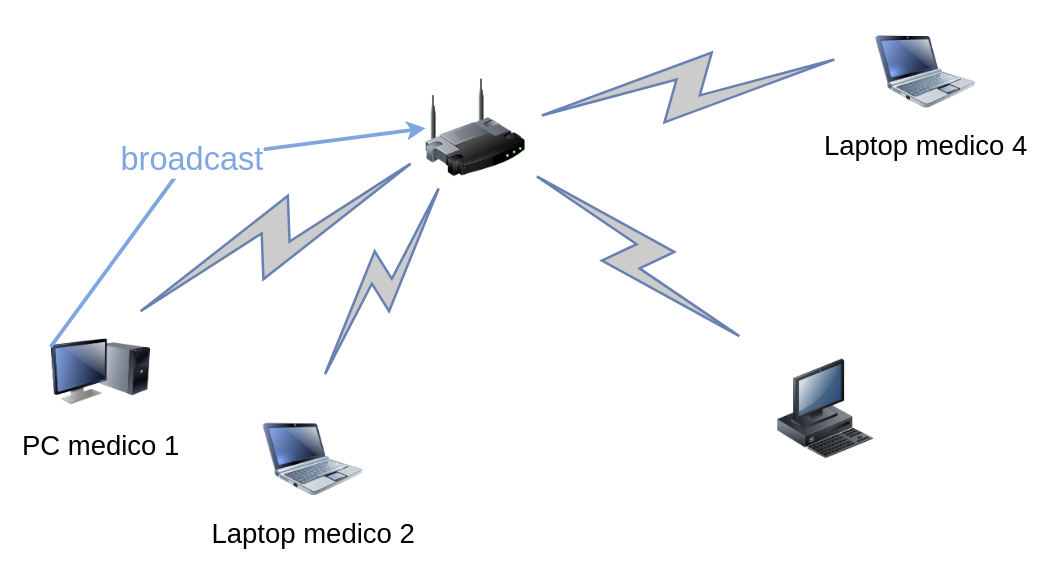
Some shapes in this 1049 by 571 pixel diagram are drawn without their labels. The shapes that lost their labels are listed below. From the top down, each one's box as (x1, y1, x2, y2) in pixels, then its label:
(425, 78, 525, 178): Router del centro de salud
(775, 359, 875, 459): PC medico 3
